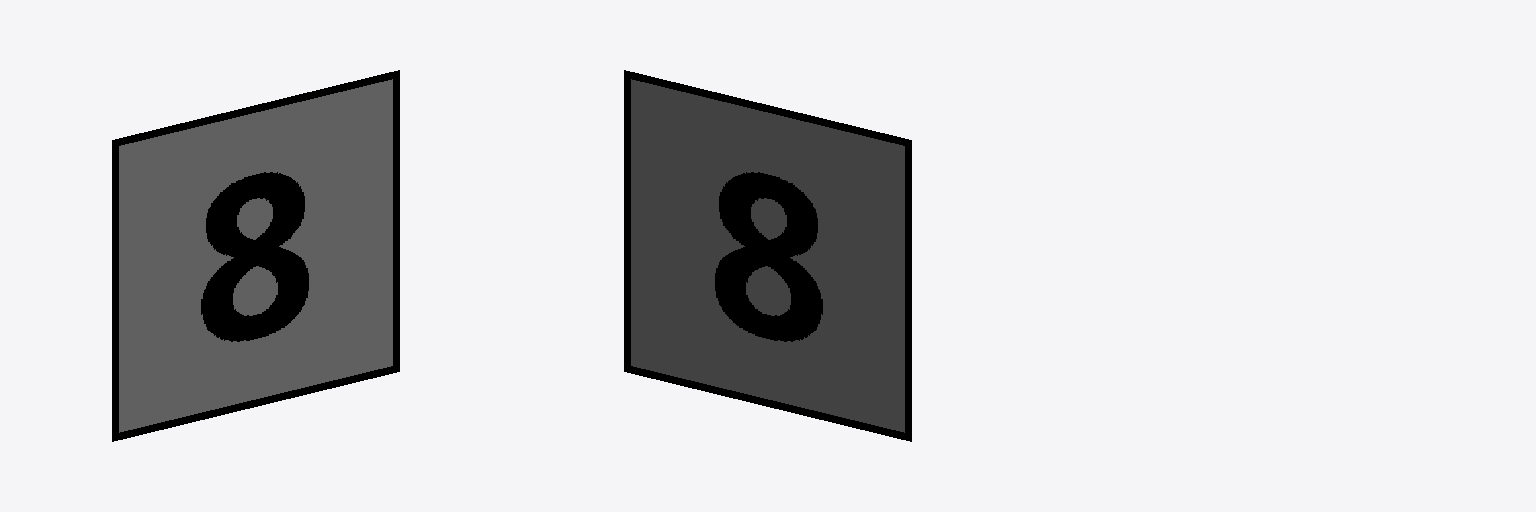
The picture shows the model from 3 angles: view 1: azimuth 30°, elevation 25°; view 2: azimuth 150°, elevation 25°; view 3: azimuth 270°, elevation 25°; orthographic projection.
Visible parts, largest first — view 1: 平面.001; view 2: 平面.001; view 3: none.
Boxes of the visible parts, box(x1,y1,x2,y2) form: 平面.001: box(112, 70, 399, 441); 平面.001: box(624, 70, 911, 441).
Bounding box in the file's own units: 2 × 2 × 0.
Materials: 1 (1 with a texture image).